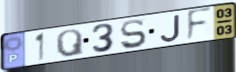1: (34, 30, 49, 63)
3: (91, 22, 117, 54)
F: (185, 6, 213, 44)
J: (159, 13, 182, 43)
Q: (54, 28, 86, 59)
S: (119, 18, 149, 50)
